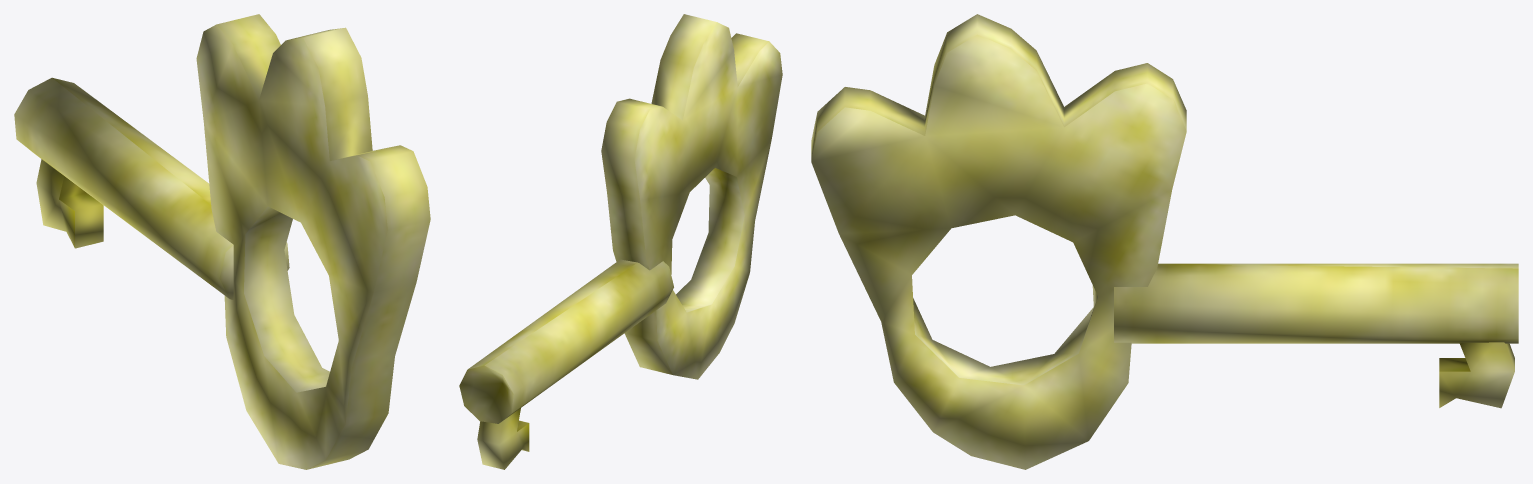
File: ChestKey.glb
The picture shows the model from 3 angles, left to right: view 1: azimuth 30°, elevation 25°; view 2: azimuth 150°, elevation 25°; view 3: azimuth 270°, elevation 25°; orthographic projection. The views are drawn at different scales.
Parts seen in each view (by area): view 1: chest.jpg__; view 2: chest.jpg__; view 3: chest.jpg__.
Boxes of the visible parts, <box> form: chest.jpg__: <box>14,14,430,469</box>; chest.jpg__: <box>459,14,782,469</box>; chest.jpg__: <box>811,14,1518,469</box>.
Size of the model in its own units: 0.3985 by 2.37 by 3.5.
Materials: 1 (1 with a texture image).
